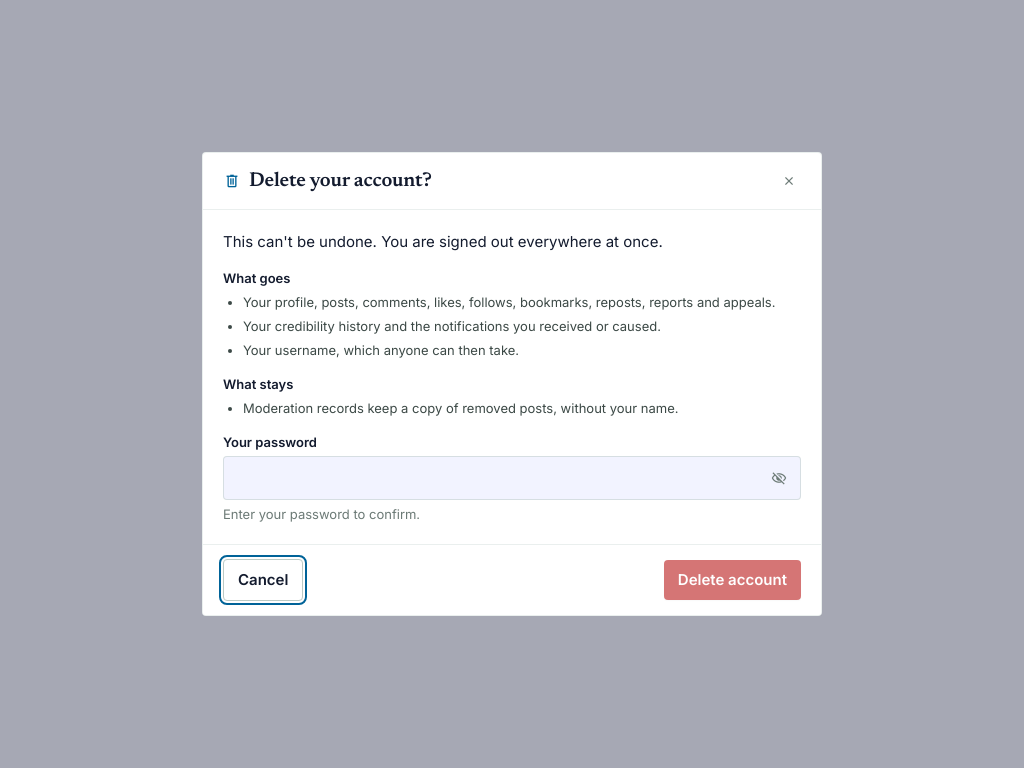
DeleteAccountModal › answers a 403 with a banner
Type "pw-123456" into the password field labelled "Your password".
click(512, 478); type("pw-123456")  # box x1=223 y1=456 x2=801 y2=500
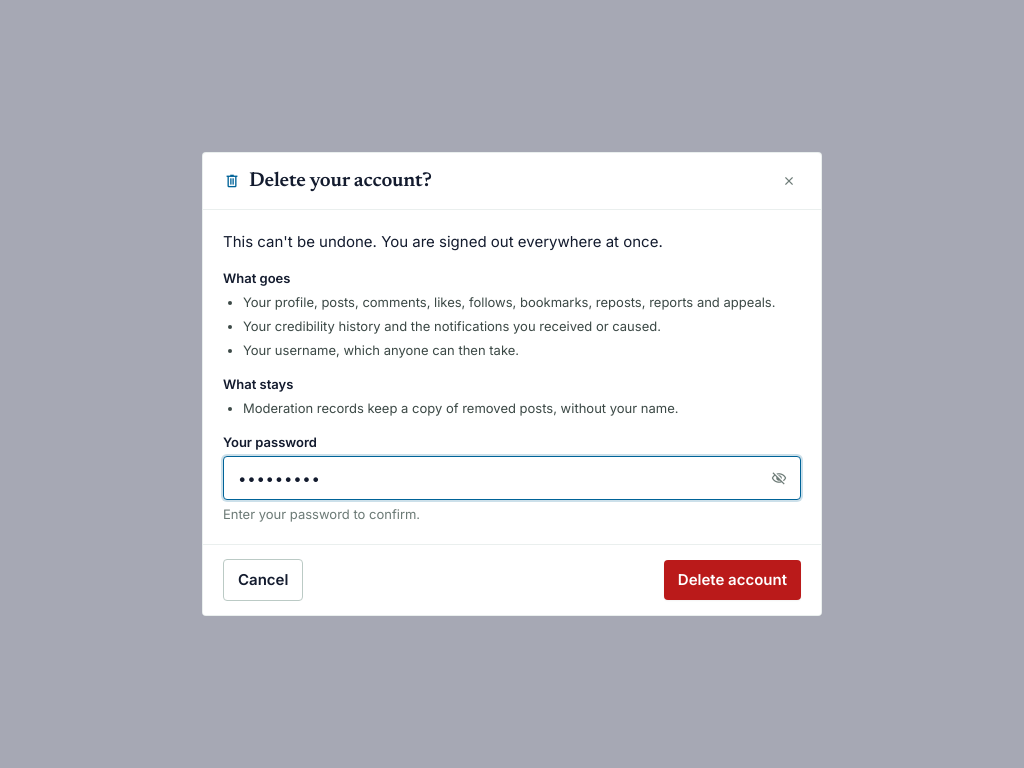
Click the button "Delete account".
click(732, 580)  # box x1=664 y1=560 x2=801 y2=600
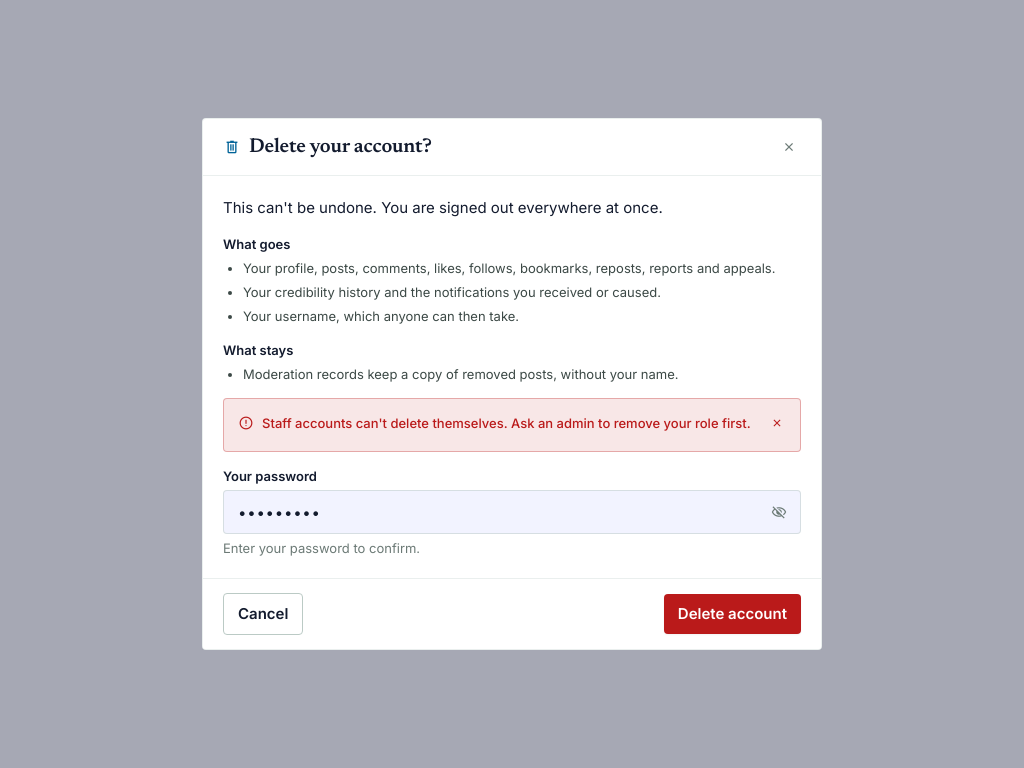
Expected: the text "Staff accounts can't delete themselves. Ask an admin to remove your role first." is shown, x1=262 y1=413 x2=760 y2=433
